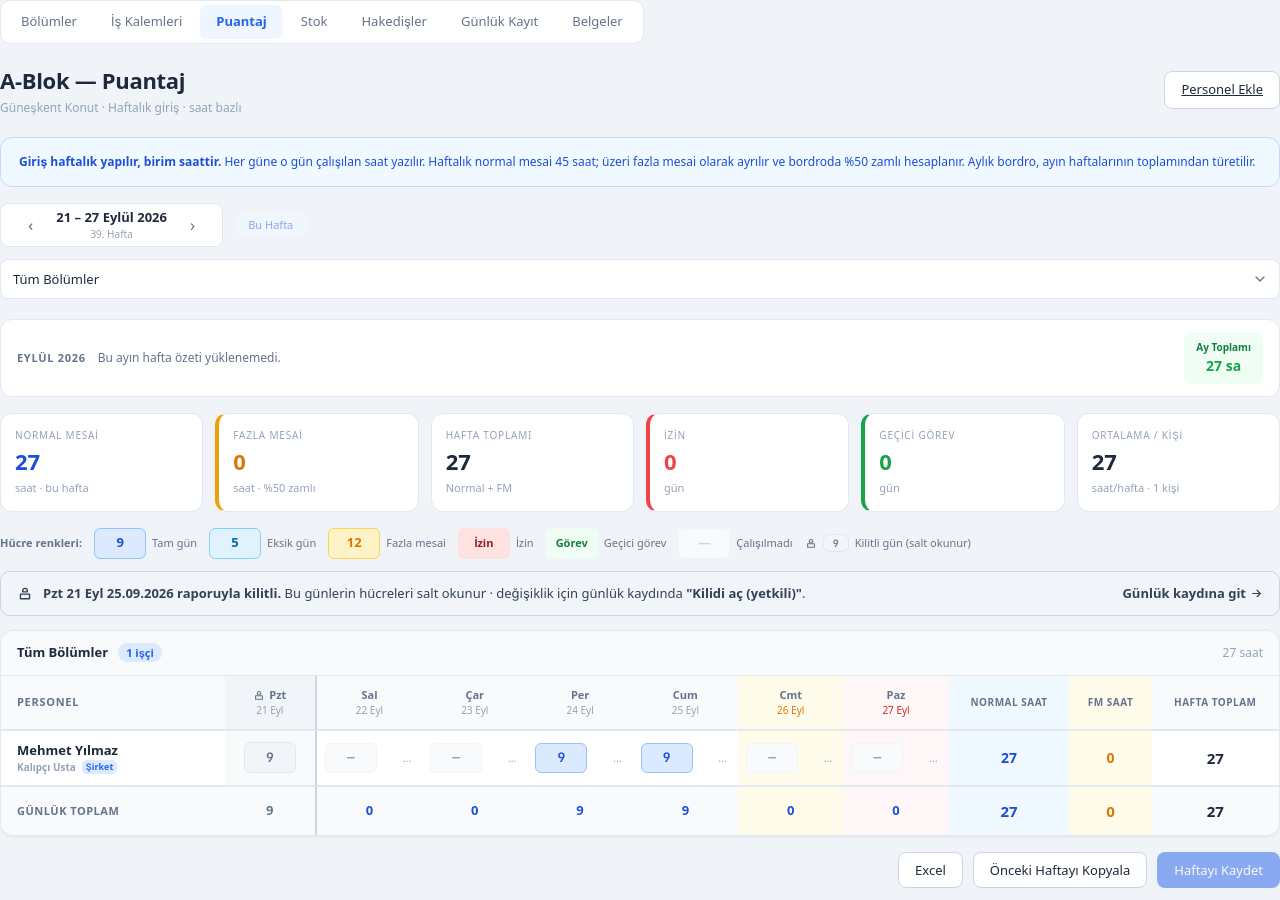
Test: SiteTimesheetView · (e) kilit 409'u (§3.14 P4) › EV-BORC-4 · hafta yanıtındaki day_locks başlık title'ına ve popover notuna geçer
The image size is (1280, 900).
What coordinates should you click on to do the following:
click the button named "Mehmet Yılmaz · 21 Eyl puantajı (kilitli)"
I would click on:
 (270, 758)
Its box is [244,742,296,773].
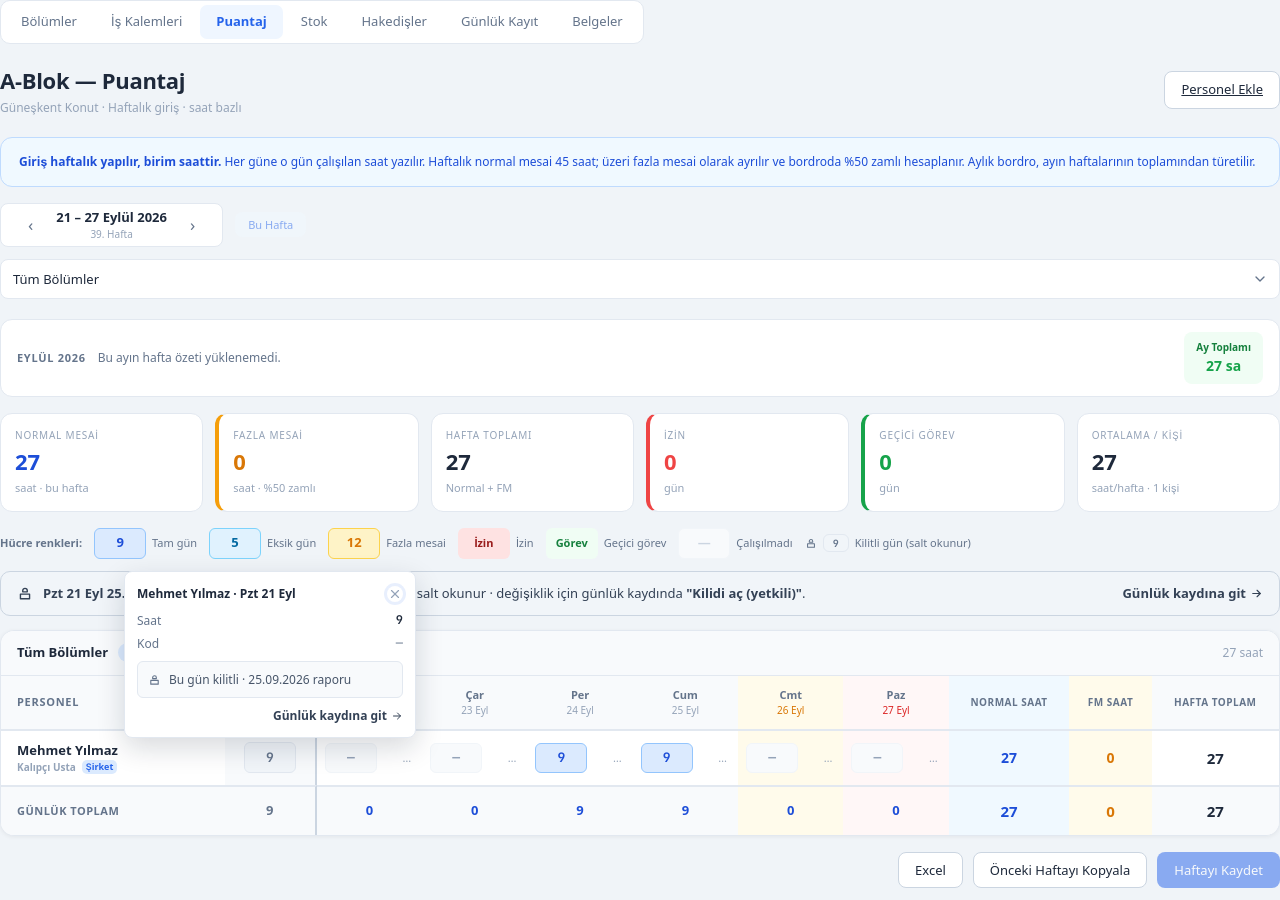
Expected: the column heading titled "Kilitli · 25.09.2026 raporu" is shown, [225,676,317,730]
Expected: the text "Bu gün kilitli · 25.09.2026 raporu" is shown, [137,661,403,698]
